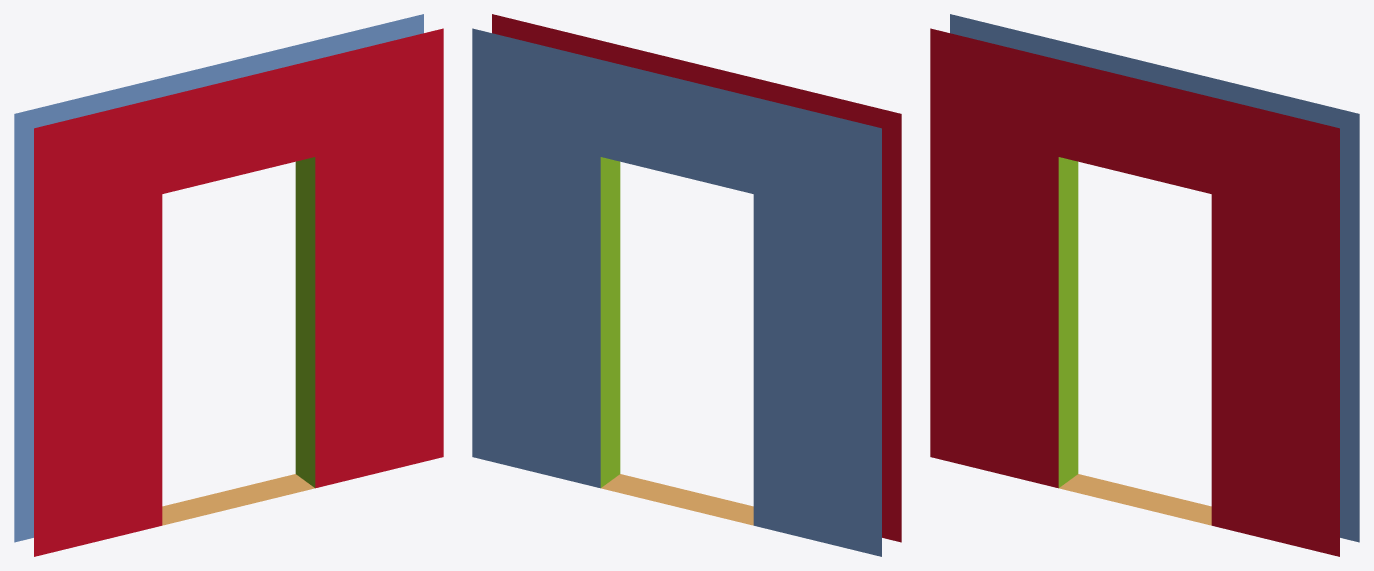
File: DoorFrame.fbx
The picture shows the model from 3 angles, left to right: view 1: azimuth 30°, elevation 25°; view 2: azimuth 150°, elevation 25°; view 3: azimuth 330°, elevation 25°; orthographic projection.
Visible parts, largest first — view 1: DoorFrame; view 2: DoorFrame; view 3: DoorFrame.
Boxes of the visible parts, x1,y1,x2,y2 form: DoorFrame: (14,14,443,556); DoorFrame: (472,14,901,556); DoorFrame: (930,14,1359,556).
Size of what is drawn, in the model's own units: 300 by 300 by 25.
